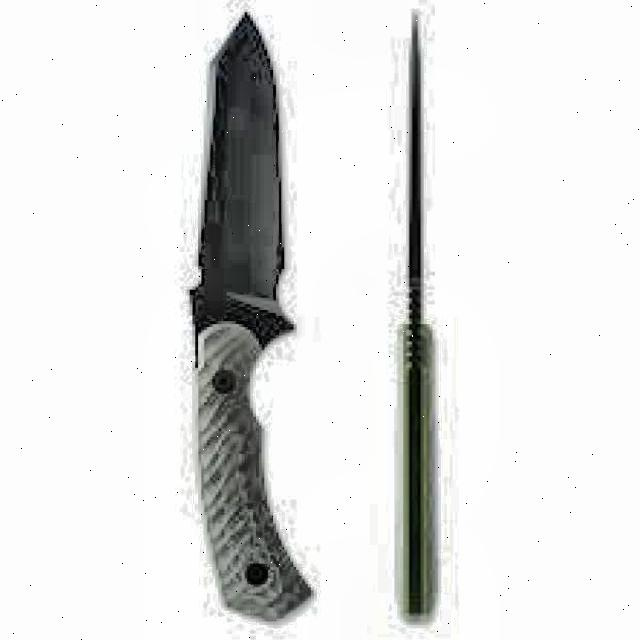knife: (185, 0, 322, 621), (398, 4, 443, 624)
